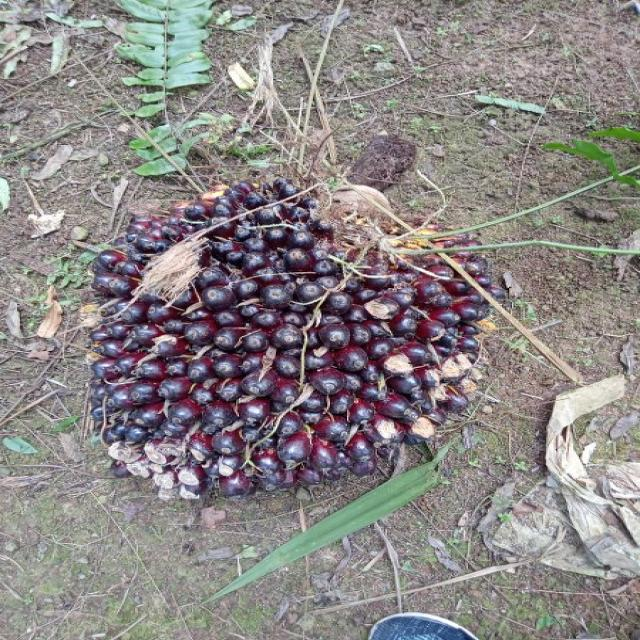fraksi 00: (16, 135, 559, 557)
